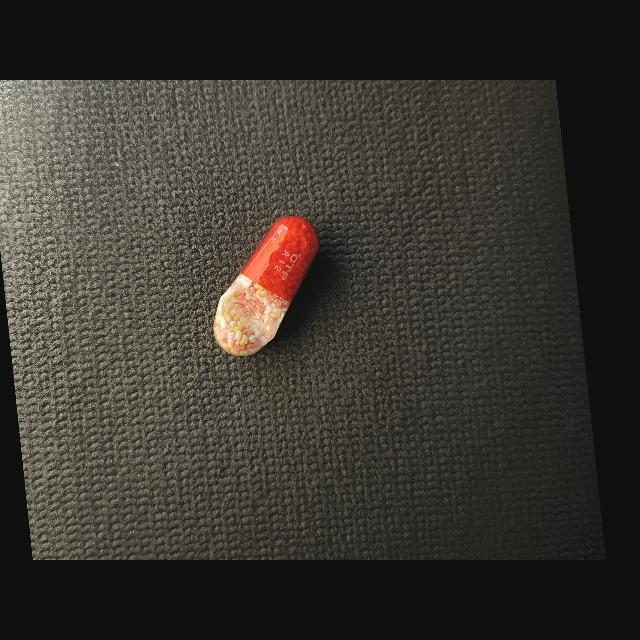Defective Capsule: (213, 216, 318, 356)
